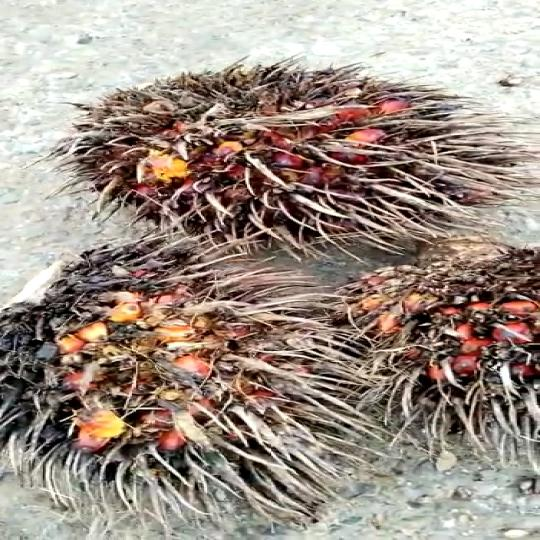terlalu masak: (0, 235, 365, 535), (44, 73, 523, 235)
